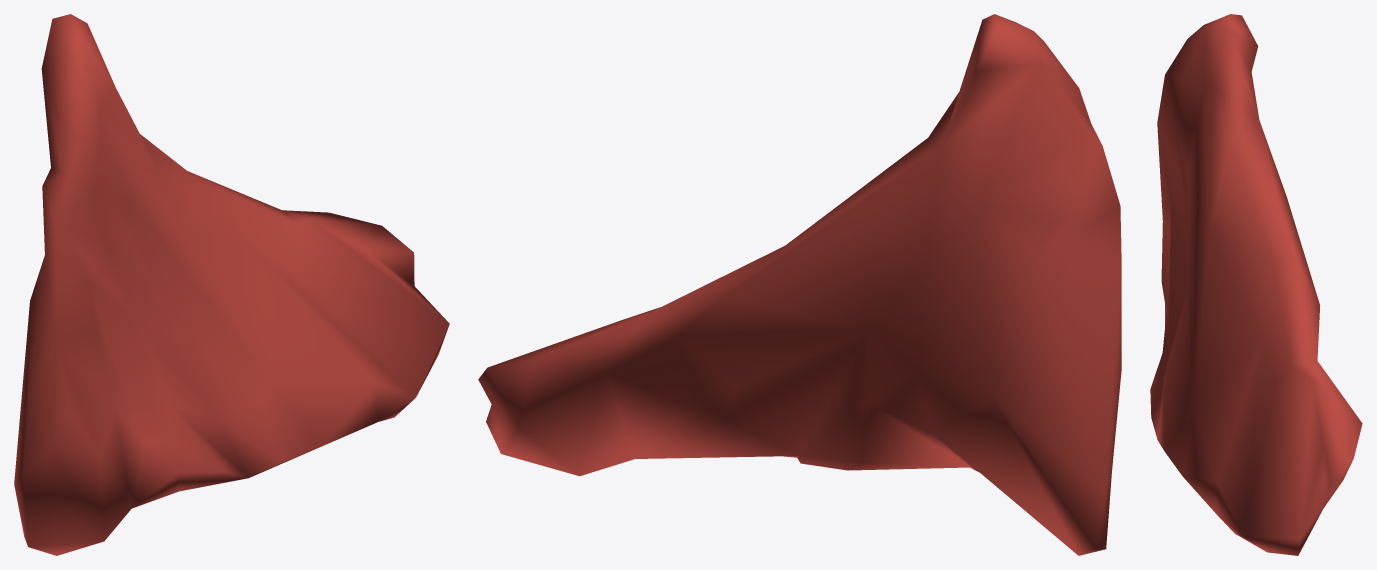
Rendered from musculos-depressor-septi-nasi-l.glb.
3 views of the same model, side by side, from view 1: azimuth 30°, elevation 25°; view 2: azimuth 150°, elevation 25°; view 3: azimuth 270°, elevation 25° (orthographic). The views are drawn at different scales.
Visible parts, largest first — view 1: Depressor septi nasi.l; view 2: Depressor septi nasi.l; view 3: Depressor septi nasi.l.
Boxes of the visible parts, <box> form: Depressor septi nasi.l: <box>14,14,449,555</box>; Depressor septi nasi.l: <box>478,14,1121,555</box>; Depressor septi nasi.l: <box>1150,14,1362,555</box>.
Bounding box in the file's own units: 0.0166 × 0.0161 × 0.00757.
